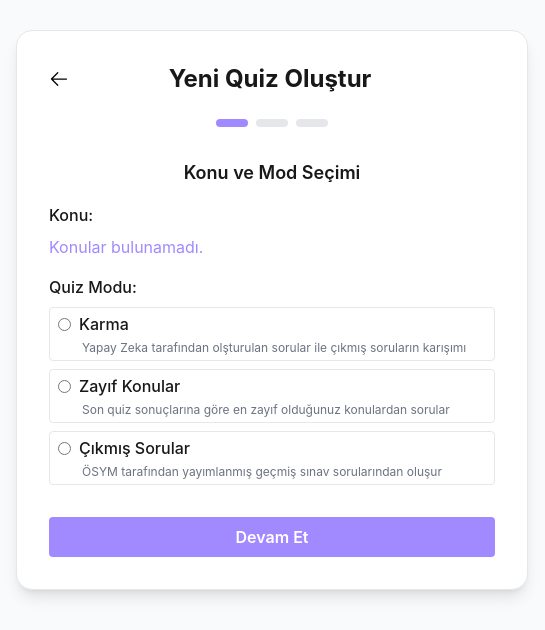
Scenario: QuizNewPage › shows error when trying to proceed without selection
The width and height of the screenshot is (545, 630).
Click the button "Devam Et".
click(272, 537)  # box [49,517,495,557]
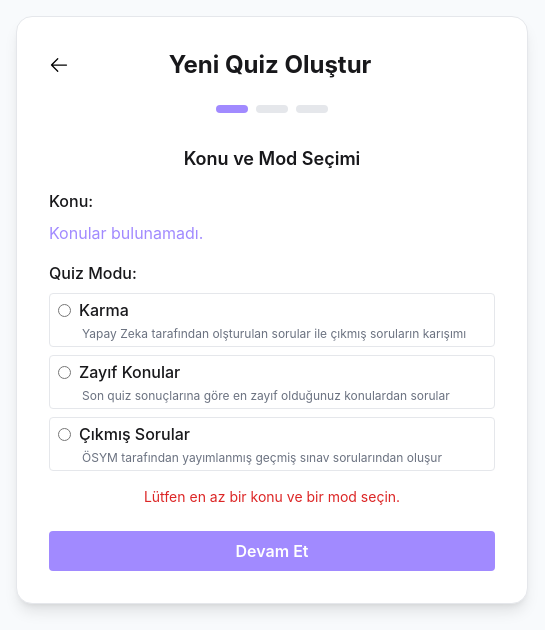
Now the text "Lütfen en az bir konu ve bir mod seçin." is shown, box [144,487,400,507]
